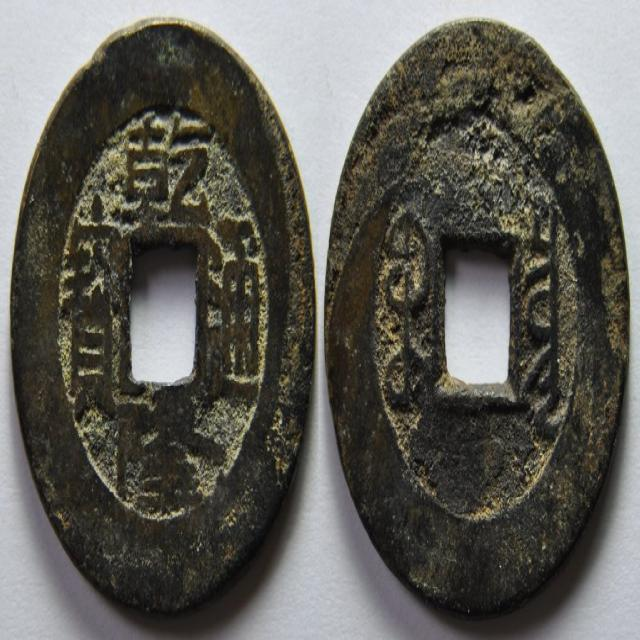Coin: (7, 11, 320, 624), (324, 16, 630, 634)
